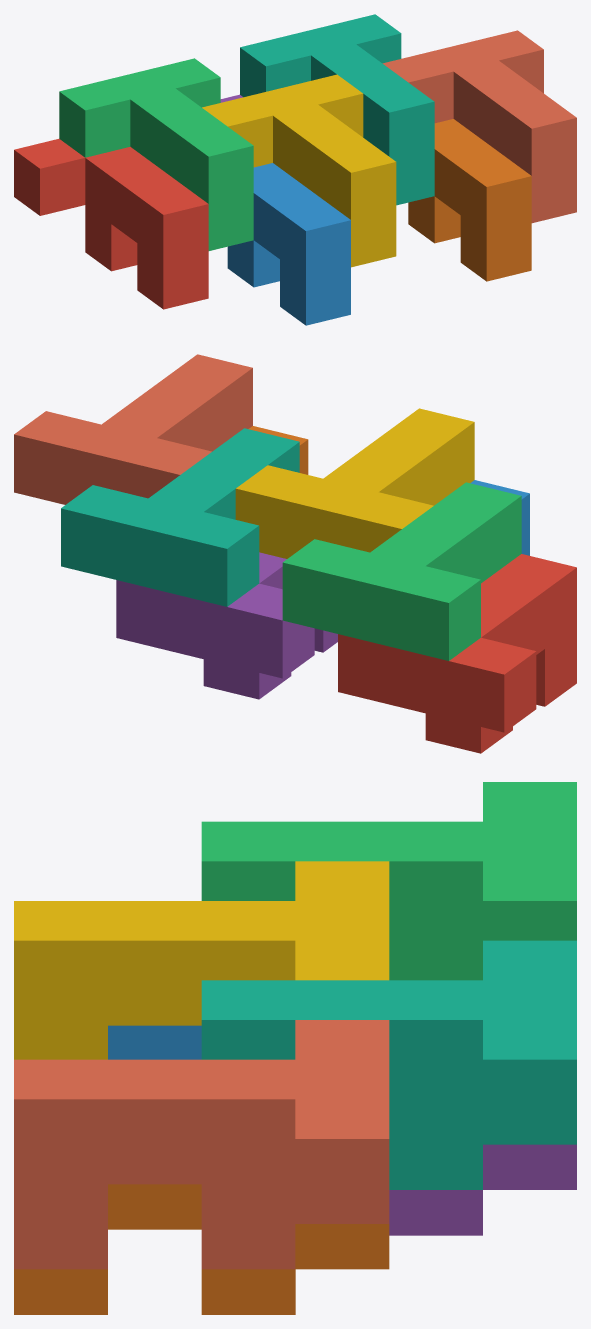
Rendered from tiling.obj.
The picture shows the model from 3 angles, top to bottom: view 1: azimuth 30°, elevation 25°; view 2: azimuth 150°, elevation 25°; view 3: azimuth 270°, elevation 25°; orthographic projection. The views are drawn at different scales.
Visible parts, largest first — view 1: copy_1_domain_1, copy_1_domain_3, copy_1_domain_4, copy_1_domain_8, copy_1_domain_7, copy_1_domain_6, copy_1_domain_2; view 2: copy_1_domain_3, copy_1_domain_1, copy_1_domain_7, copy_1_domain_8, copy_1_domain_4, copy_1_domain_5, copy_1_domain_2, copy_1_domain_6; view 3: copy_1_domain_8, copy_1_domain_7, copy_1_domain_4, copy_1_domain_3, copy_1_domain_6, copy_1_domain_5, copy_1_domain_2.
Boxes of the visible parts, left/top/right/bottom form: copy_1_domain_1: left=14, top=139, right=208, bottom=309; copy_1_domain_3: left=59, top=58, right=253, bottom=250; copy_1_domain_4: left=202, top=74, right=396, bottom=267; copy_1_domain_8: left=382, top=30, right=576, bottom=223; copy_1_domain_7: left=240, top=14, right=434, bottom=205; copy_1_domain_6: left=408, top=119, right=531, bottom=281; copy_1_domain_2: left=227, top=163, right=350, bottom=325; copy_1_domain_3: left=282, top=482, right=521, bottom=660; copy_1_domain_1: left=338, top=554, right=576, bottom=753; copy_1_domain_7: left=61, top=428, right=299, bottom=606; copy_1_domain_8: left=14, top=354, right=252, bottom=504; copy_1_domain_4: left=235, top=408, right=474, bottom=558; copy_1_domain_5: left=116, top=552, right=337, bottom=699; copy_1_domain_2: left=470, top=480, right=529, bottom=555; copy_1_domain_6: left=248, top=426, right=308, bottom=474; copy_1_domain_8: left=14, top=1020, right=389, bottom=1269; copy_1_domain_7: left=201, top=940, right=576, bottom=1189; copy_1_domain_4: left=14, top=861, right=389, bottom=1059; copy_1_domain_3: left=201, top=782, right=576, bottom=980; copy_1_domain_6: left=14, top=1184, right=389, bottom=1314; copy_1_domain_5: left=389, top=1144, right=576, bottom=1235; copy_1_domain_2: left=108, top=1025, right=201, bottom=1059.
Bounding box in the file's own units: 10 × 3 × 6.
